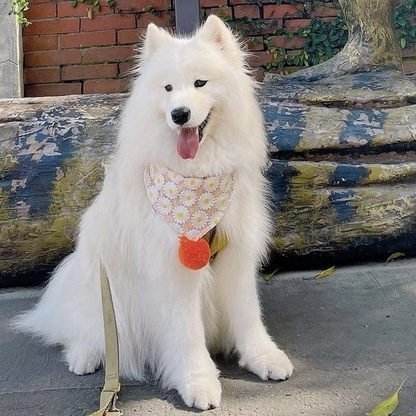samoyed: (11, 10, 302, 416)
